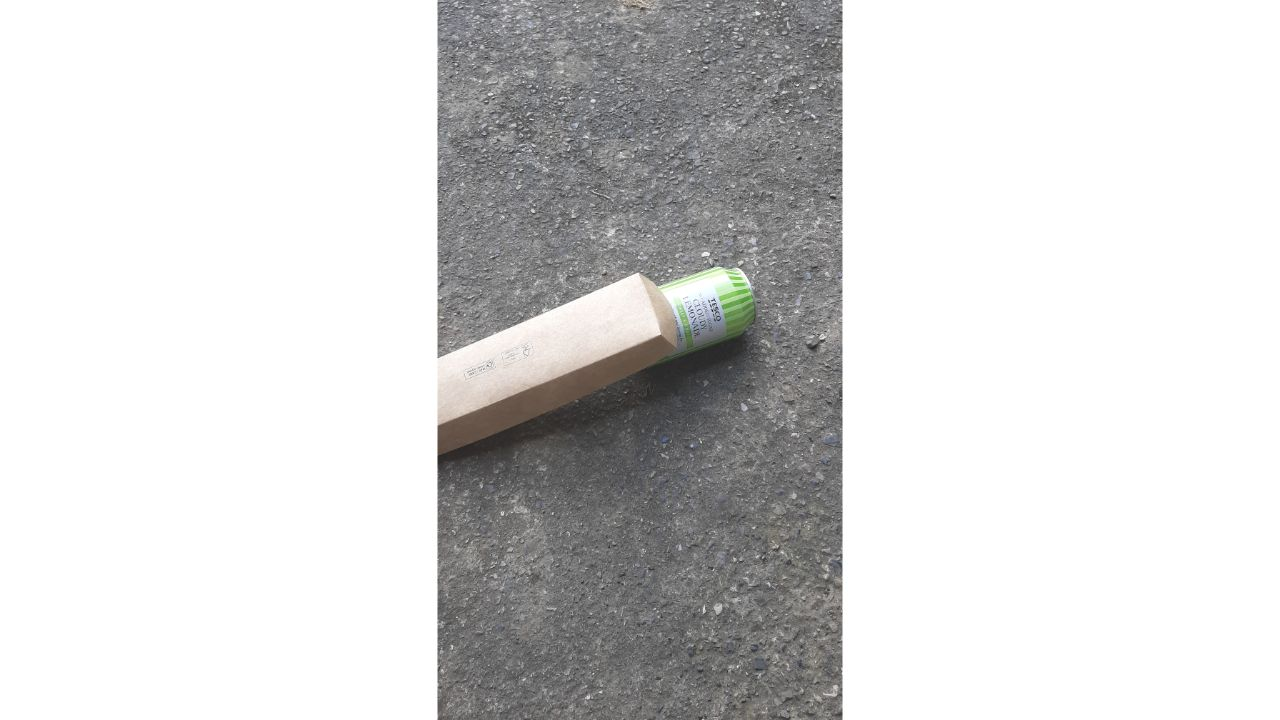Can: (652, 260, 766, 363)
